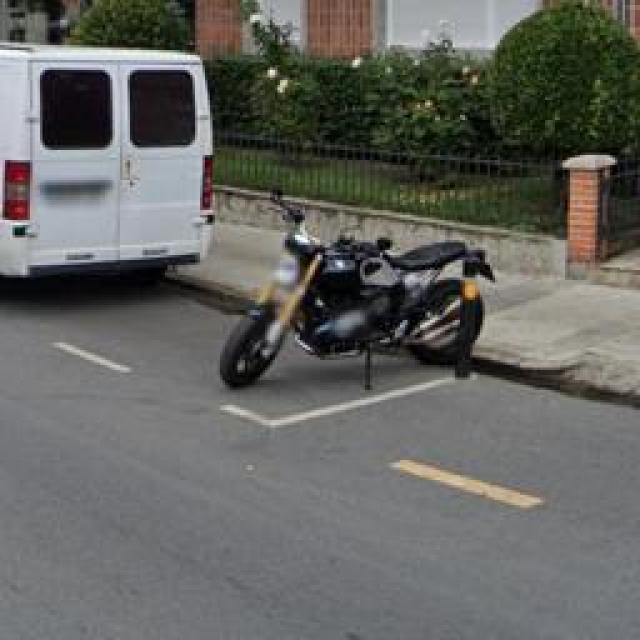motorbike: (212, 197, 493, 410)
